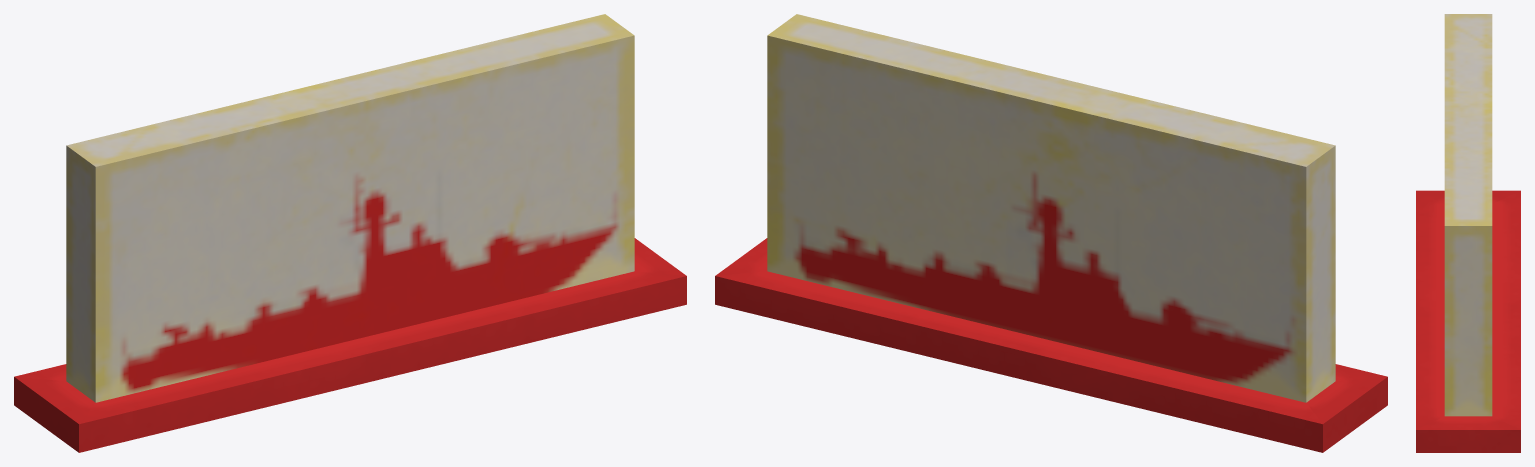
File: SM_Souvenirs01C.FBX
3 renders of one model, left to right at view 1: azimuth 30°, elevation 25°; view 2: azimuth 150°, elevation 25°; view 3: azimuth 270°, elevation 25°, orthographic. The views are drawn at different scales.
Visible parts, largest first — view 1: SM_Souvenirs01C_LOD0; view 2: SM_Souvenirs01C_LOD0; view 3: SM_Souvenirs01C_LOD0.
Boxes of the visible parts, left/top/right/bottom form: SM_Souvenirs01C_LOD0: left=14, top=14, right=686, bottom=452; SM_Souvenirs01C_LOD0: left=715, top=14, right=1387, bottom=452; SM_Souvenirs01C_LOD0: left=1416, top=14, right=1520, bottom=452.
Size of the model in its own units: 11.7 by 2.17 by 4.87.
